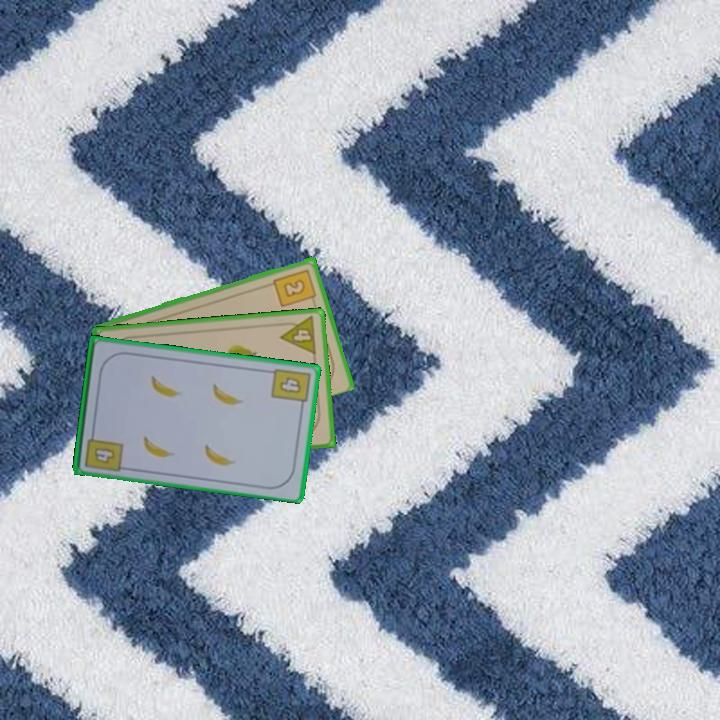2b: (270, 265, 319, 309)
4b: (268, 364, 313, 412), (81, 426, 126, 474)
4p: (276, 313, 319, 357)
